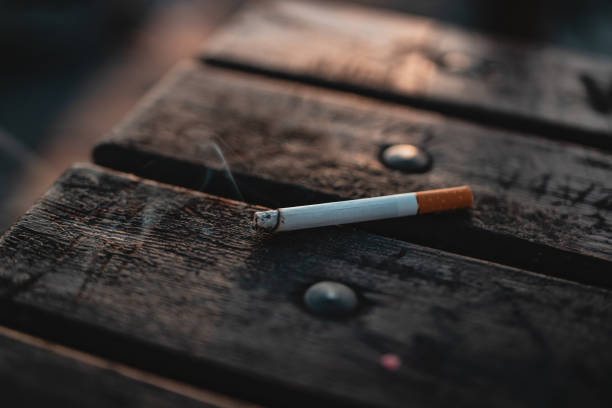cigarette: (251, 182, 476, 233)
